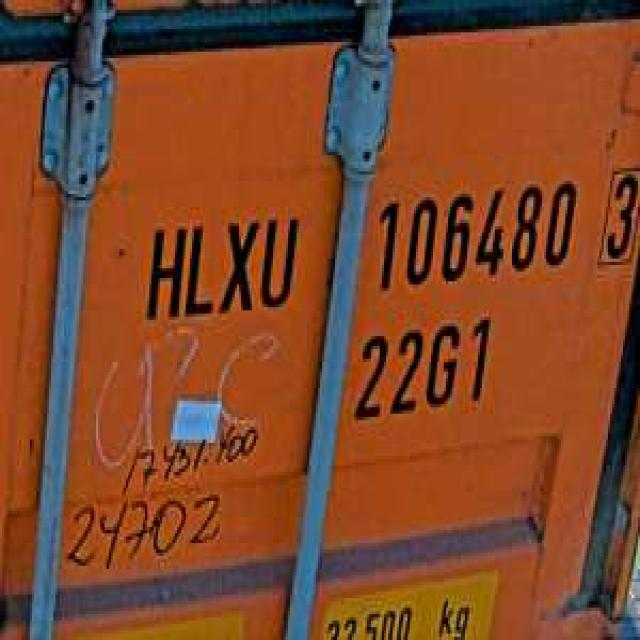dv: (595, 152, 640, 275)
owner: (139, 200, 303, 326)
serial: (367, 168, 580, 294)
size: (346, 307, 497, 427)
